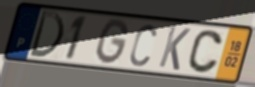1: (62, 14, 89, 61)
C: (185, 29, 225, 75), (128, 23, 158, 69)
D: (27, 9, 65, 60)
G: (95, 17, 131, 67)
K: (156, 24, 193, 73)
